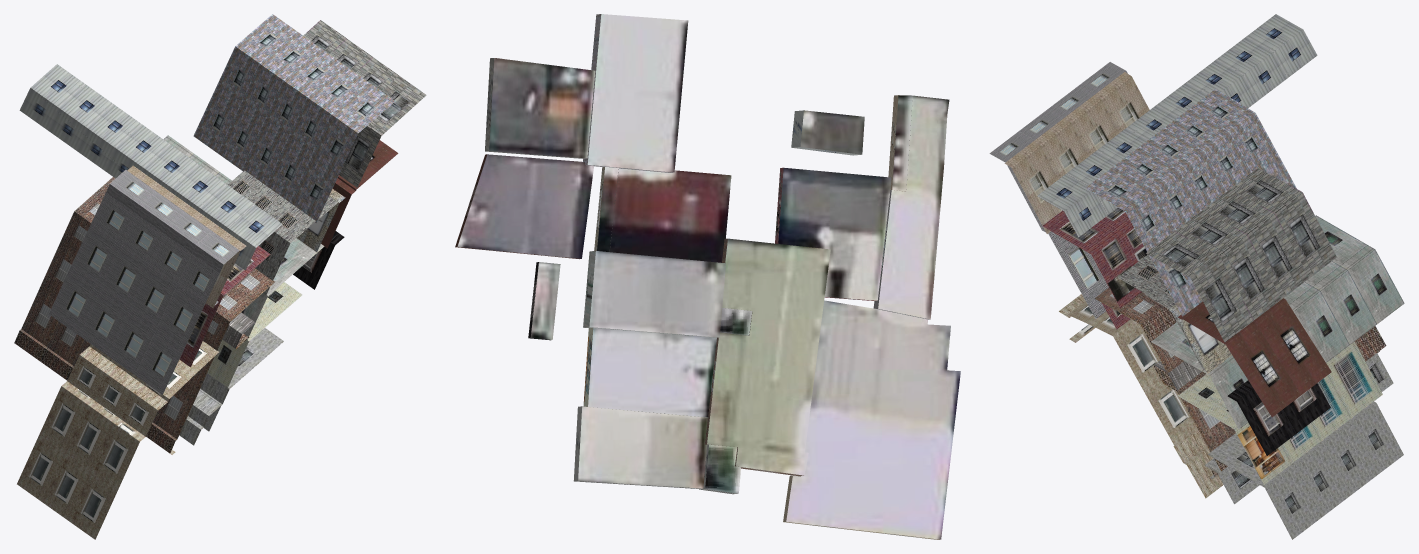
The picture shows the model from 3 angles, left to right: view 1: azimuth 30°, elevation 25°; view 2: azimuth 150°, elevation 25°; view 3: azimuth 270°, elevation 25°; orthographic projection. The views are drawn at different scales.
Bounding box in the file's own units: 43.53 × 45.08 × 35.99.
Materials: 53 (53 with a texture image).
